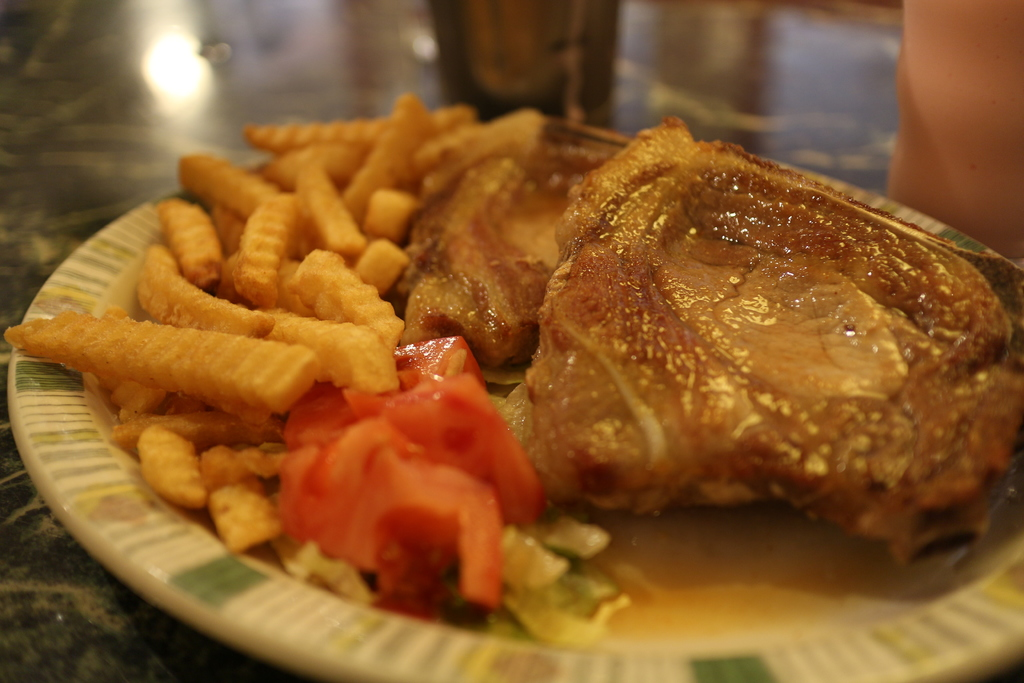French fries: (53, 104, 465, 502)
